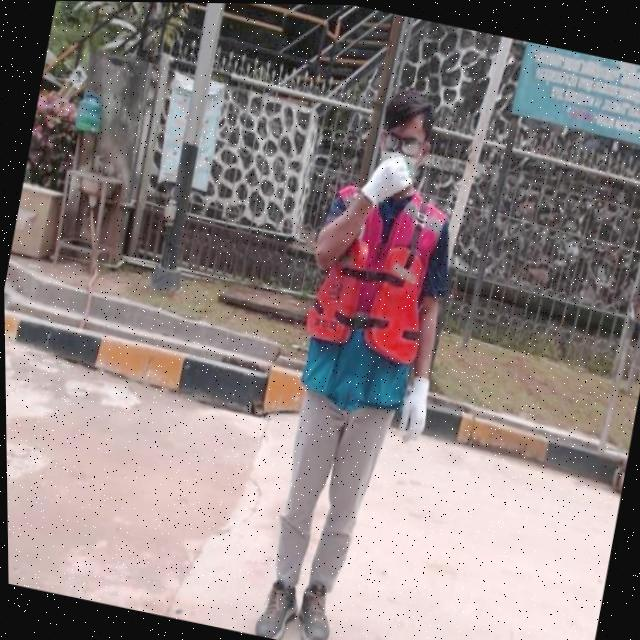goggles_on: (376, 126, 428, 156)
